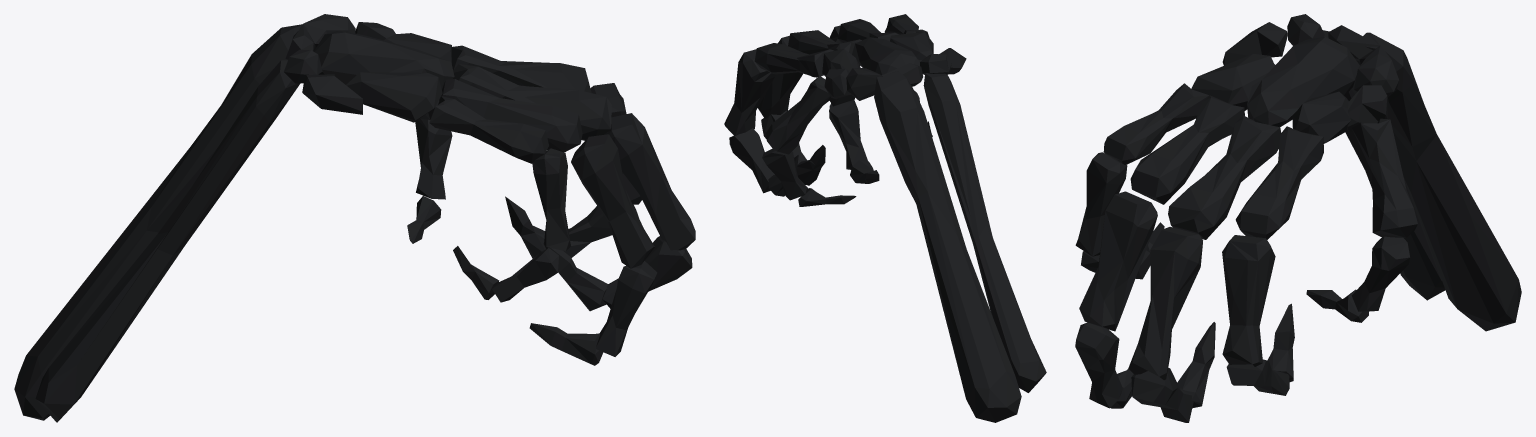
The model's file is pit_bone_hand_r.gltf.
3 renders of one model, left to right at view 1: azimuth 30°, elevation 25°; view 2: azimuth 150°, elevation 25°; view 3: azimuth 270°, elevation 25°, orthographic. The views are drawn at different scales.
Visible parts, largest first — view 1: pit_bone_hand_r; view 2: pit_bone_hand_r; view 3: pit_bone_hand_r.
Boxes of the visible parts, box(x1,y1,x2,y2) form: pit_bone_hand_r: box(14, 14, 695, 422); pit_bone_hand_r: box(724, 14, 1046, 422); pit_bone_hand_r: box(1075, 14, 1521, 422).
Bounding box in the file's own units: 9.62 × 6.96 × 7.08.
Materials: 1 (1 with a texture image).
